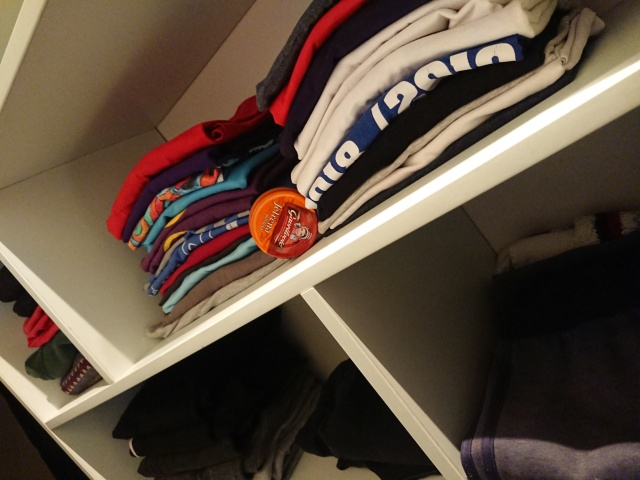Gavrilovic Pork Liver Pate 100g: (246, 184, 319, 260)
